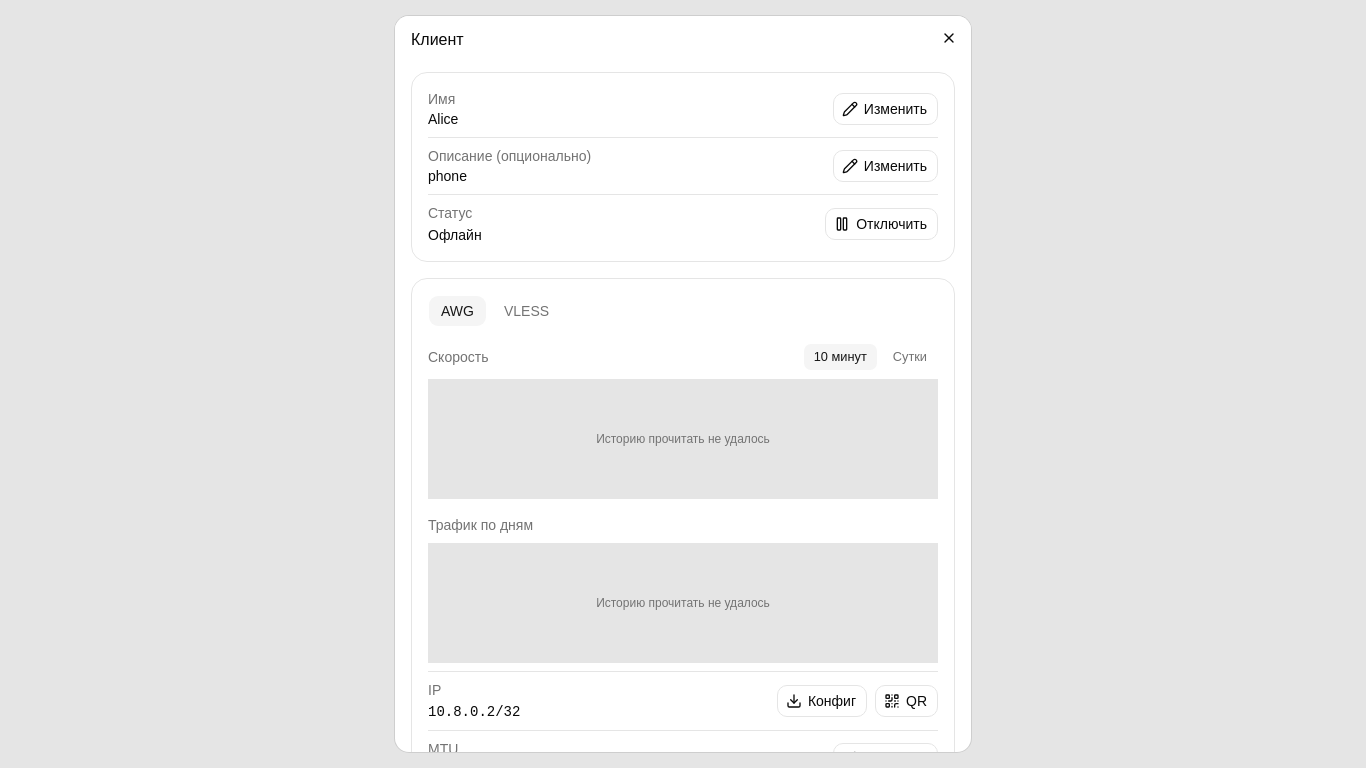
Test: ClientInfoDialog: вкладки протоколов › без узлов-входов — только прямой маршрут
Click the tab "VLESS" at (526, 311), box top-left (491, 295), bottom-right (562, 327)
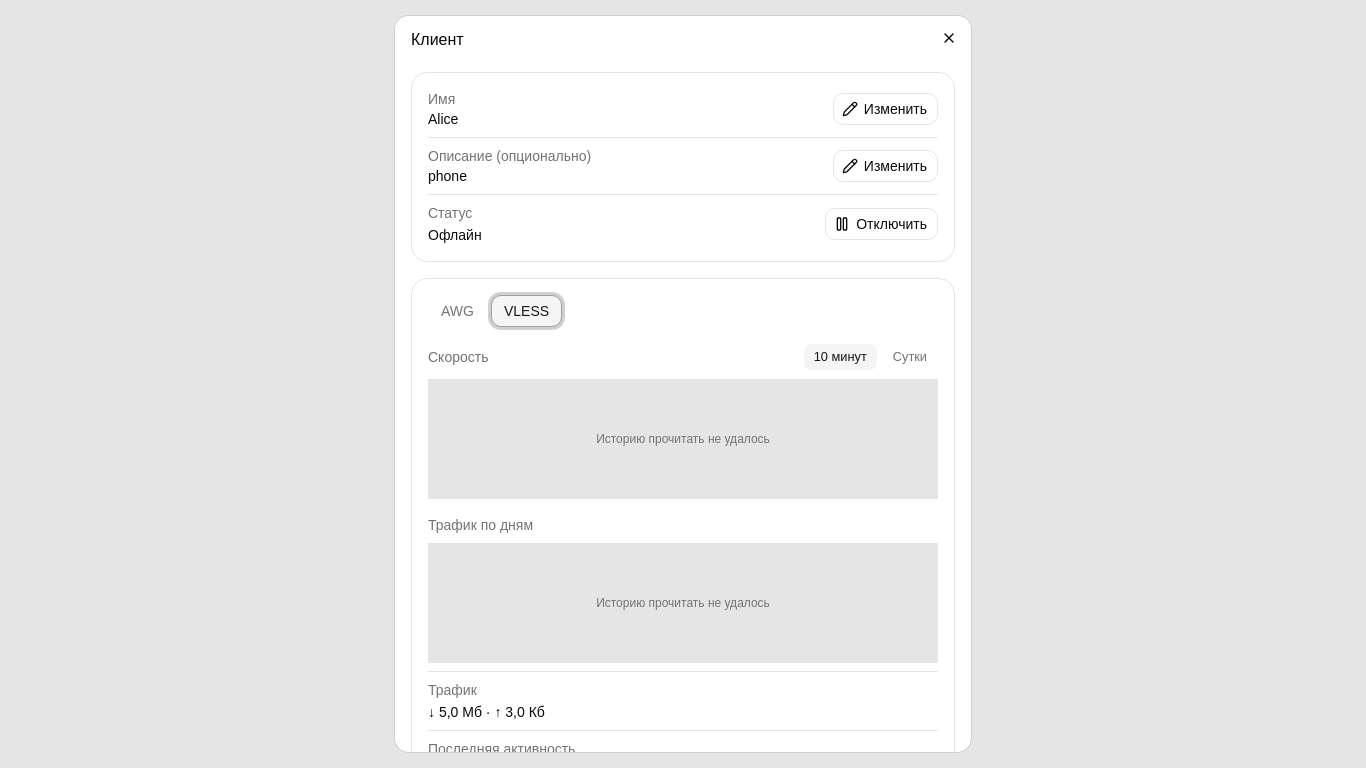
expect the text "Трафик" is shown: met, box top-left (428, 682), bottom-right (477, 698)
